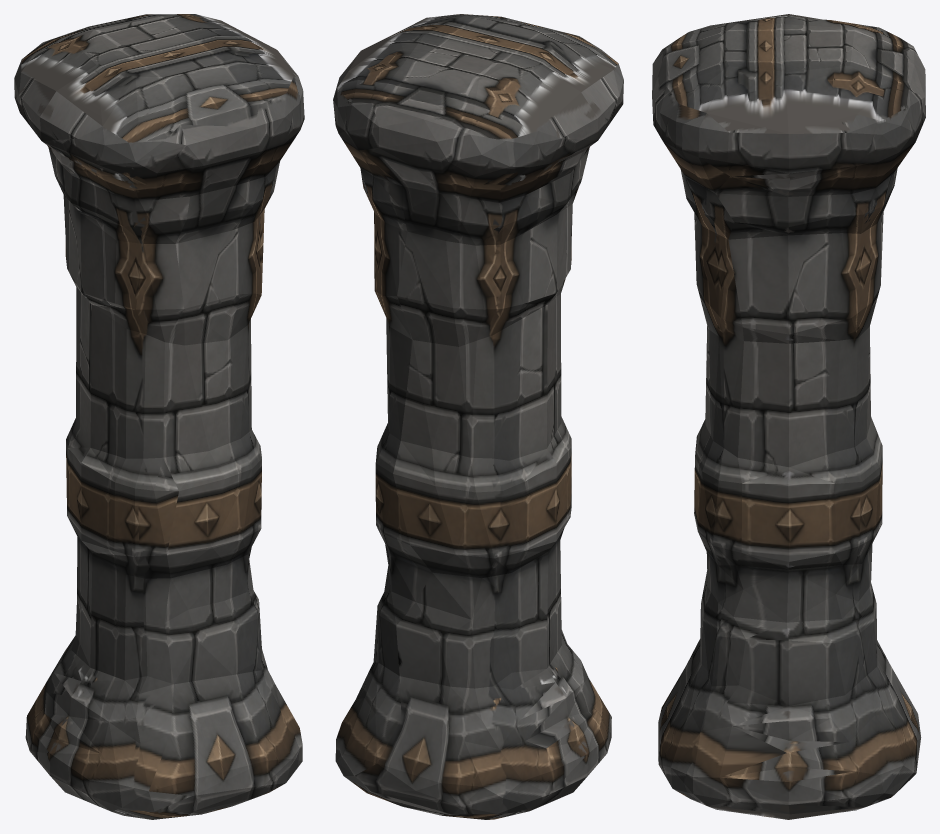
File: SM_Dungeon_Pillar_A_LOD1.fbx
3 views of the same model, side by side, from view 1: azimuth 30°, elevation 25°; view 2: azimuth 150°, elevation 25°; view 3: azimuth 270°, elevation 25° (orthographic).
Visible parts, largest first — view 1: SM_Dungeon_Pillar_A_LOD1; view 2: SM_Dungeon_Pillar_A_LOD1; view 3: SM_Dungeon_Pillar_A_LOD1.
Part boxes in pixels (x1,y1,x2,y2): SM_Dungeon_Pillar_A_LOD1: (14,14,304,819); SM_Dungeon_Pillar_A_LOD1: (333,14,623,819); SM_Dungeon_Pillar_A_LOD1: (652,14,925,819).
Bounding box in the file's own units: 0.9957 × 3 × 0.9915.
